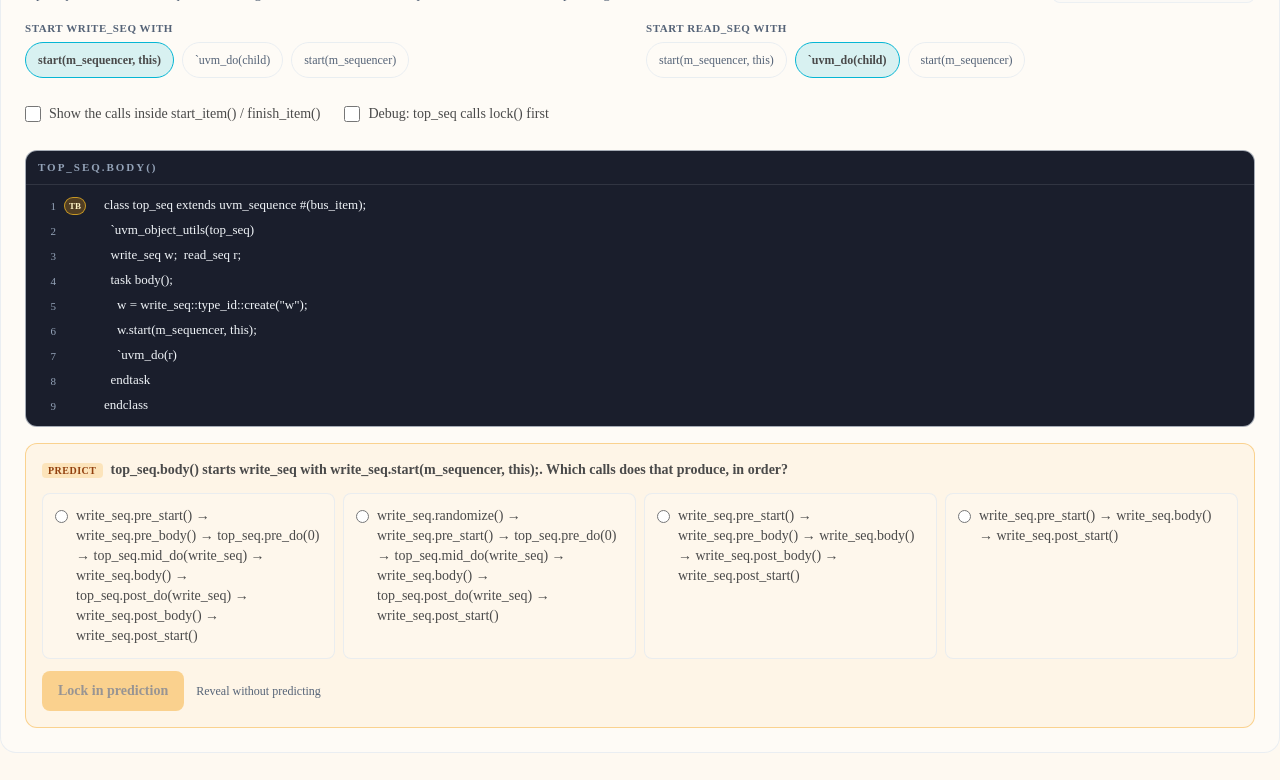
Test: UvmSequenceHierarchyVisualizer › changing the start style resets the prediction and changes the correct answer
This screenshot has width=1280, height=780.
(page scrolled)
Click the button "Reveal without predicting" at (258, 690), box x1=196 y1=682 x2=321 y2=698
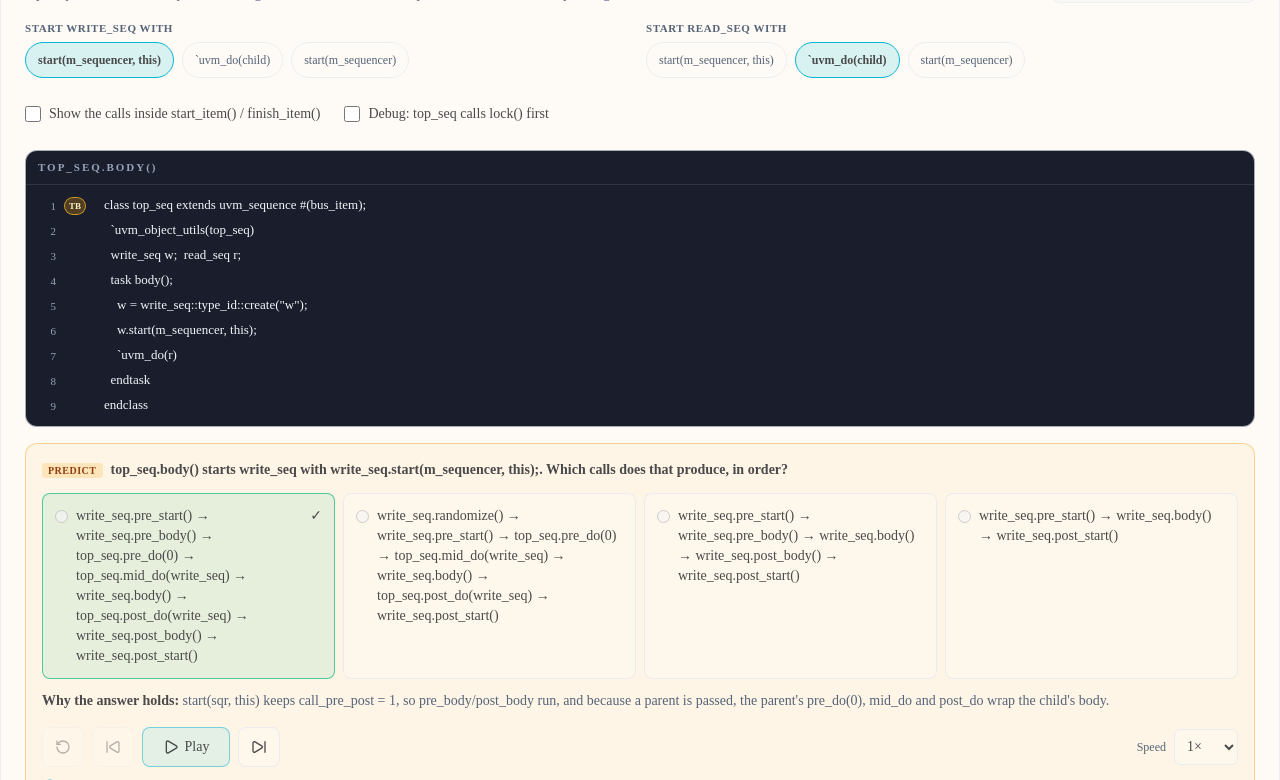
Click the radio button labelled "start(m_sequencer)" below "Start write_seq with" at (350, 60), box x1=291 y1=42 x2=409 y2=78
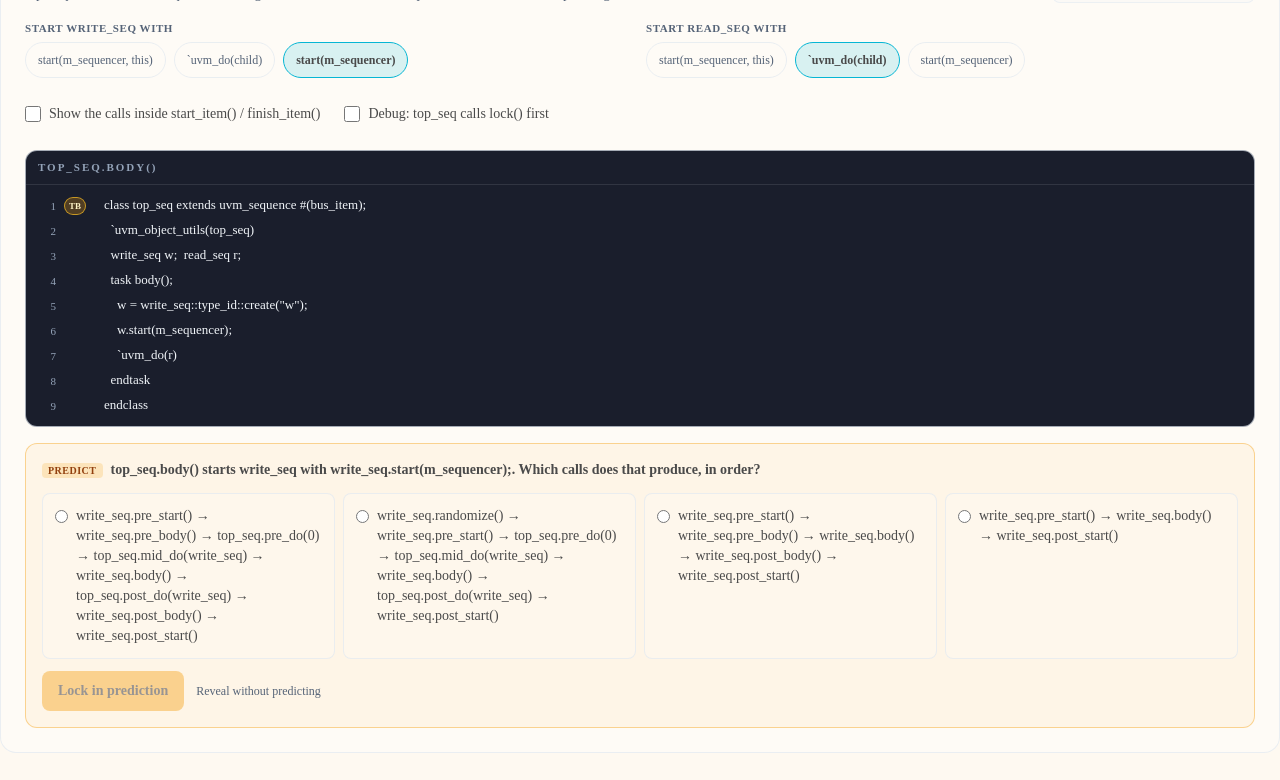
Click the radio button labelled "write_seq.pre_start() → write_seq.pre_body() → write_seq.body()" at (664, 516), box x1=657 y1=510 x2=670 y2=522
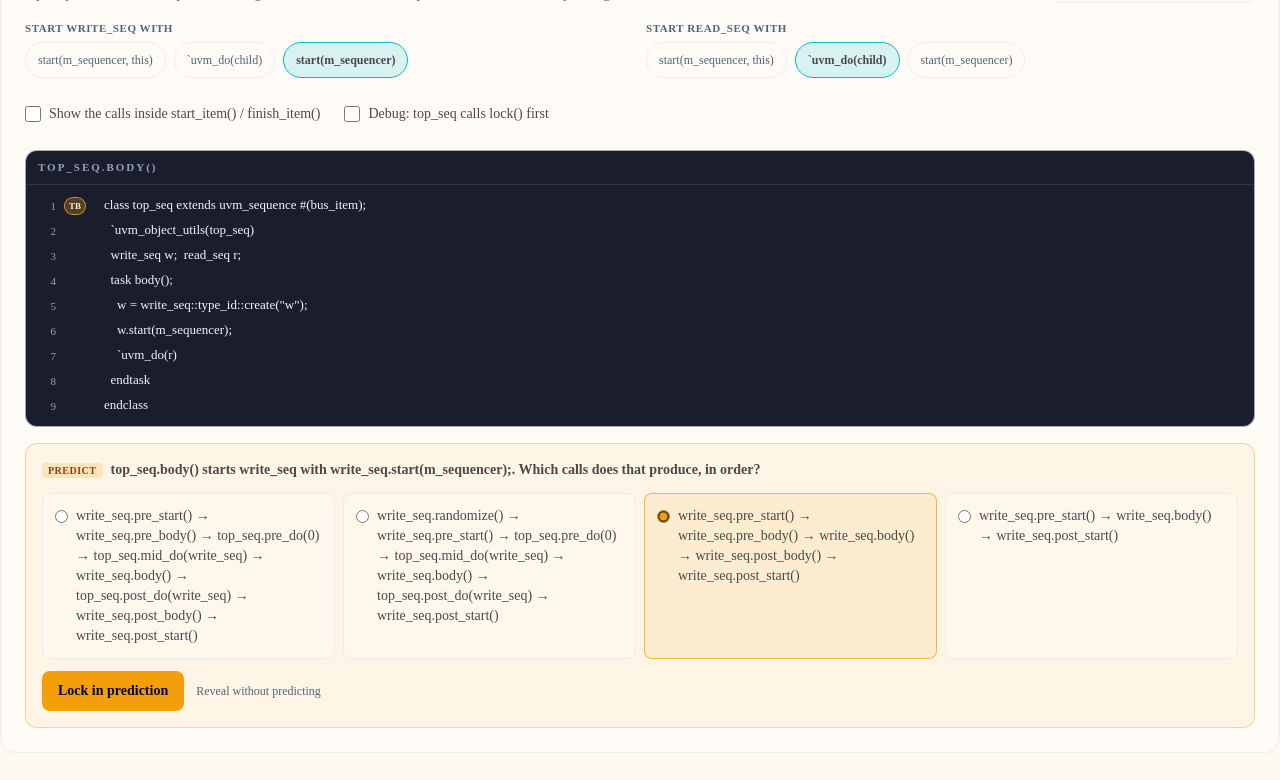
Click the button "Lock in prediction" at (113, 690), box x1=42 y1=670 x2=184 y2=710
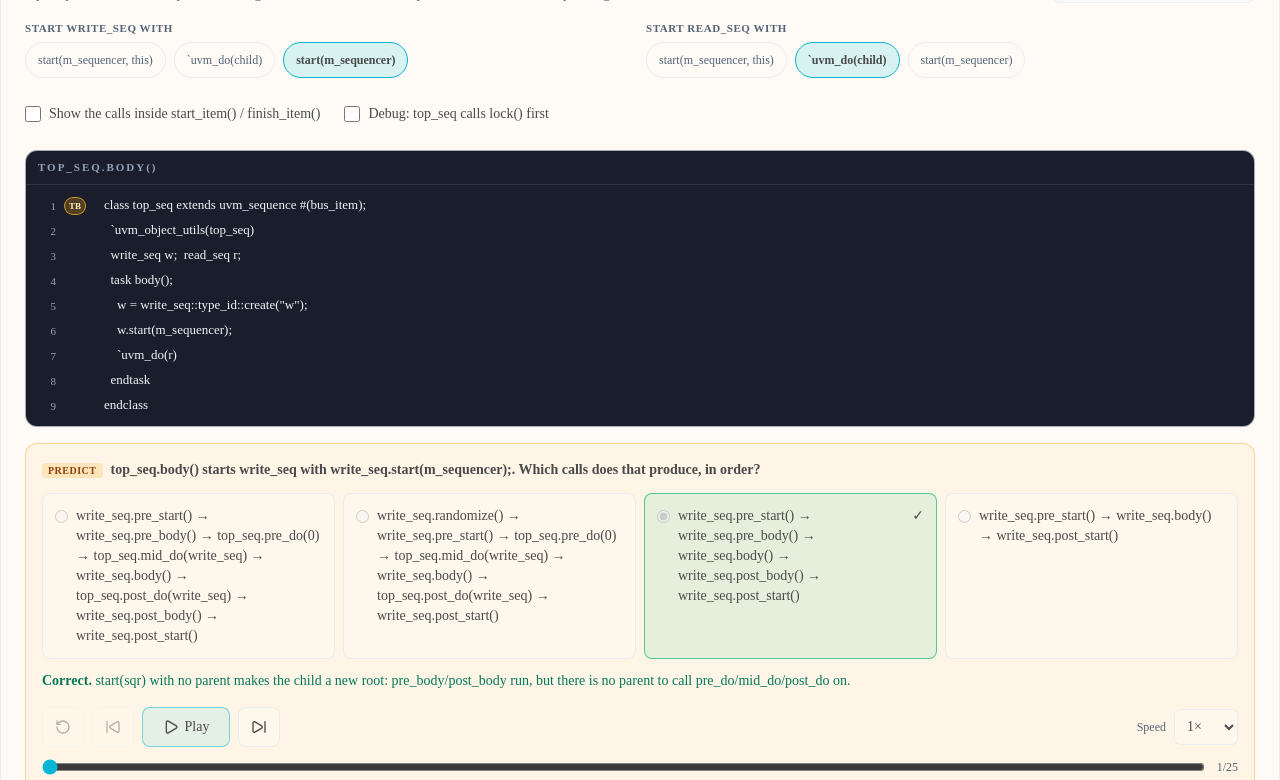
Result: the text "Correct." is shown at x1=42 y1=672 x2=95 y2=688
